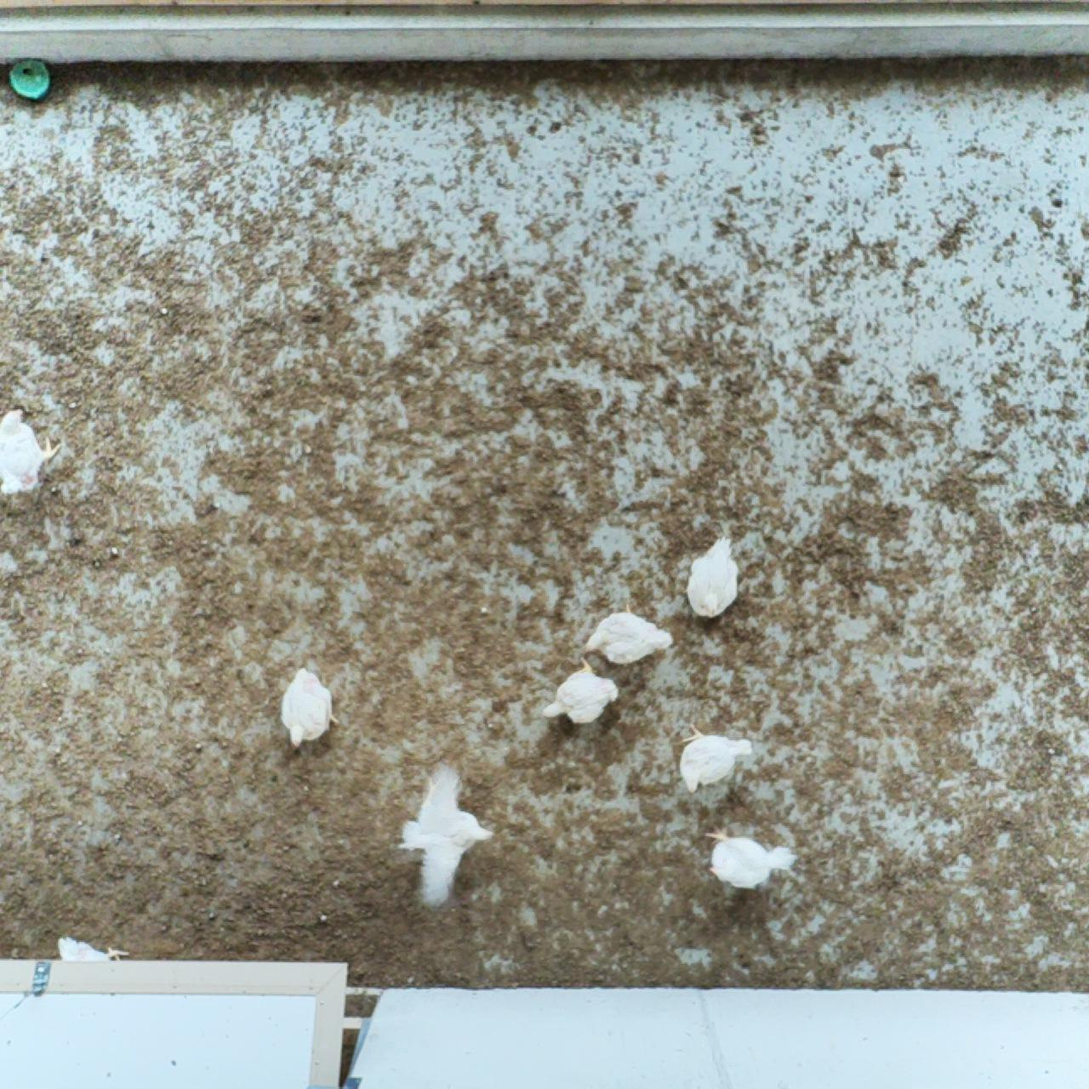chicken: (397, 757, 499, 917), (697, 819, 799, 897), (671, 719, 755, 808), (538, 652, 623, 734), (267, 663, 342, 752), (581, 601, 677, 670), (0, 403, 67, 498), (682, 533, 742, 623), (54, 931, 131, 963)
